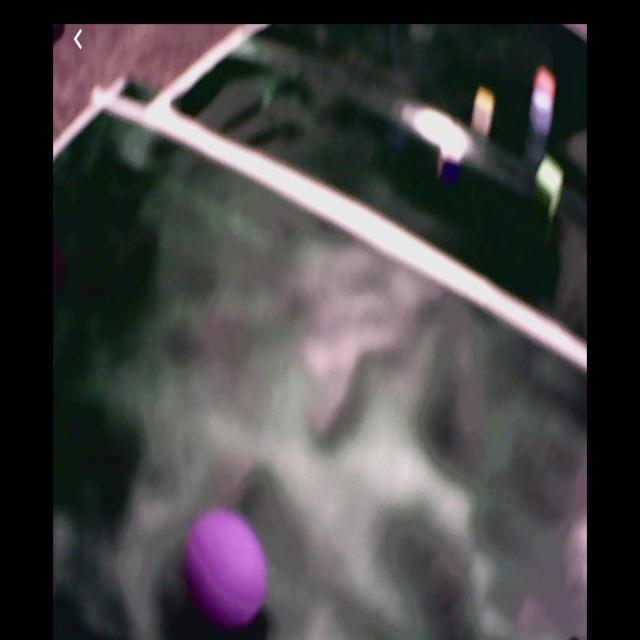ball: (186, 510, 270, 627)
